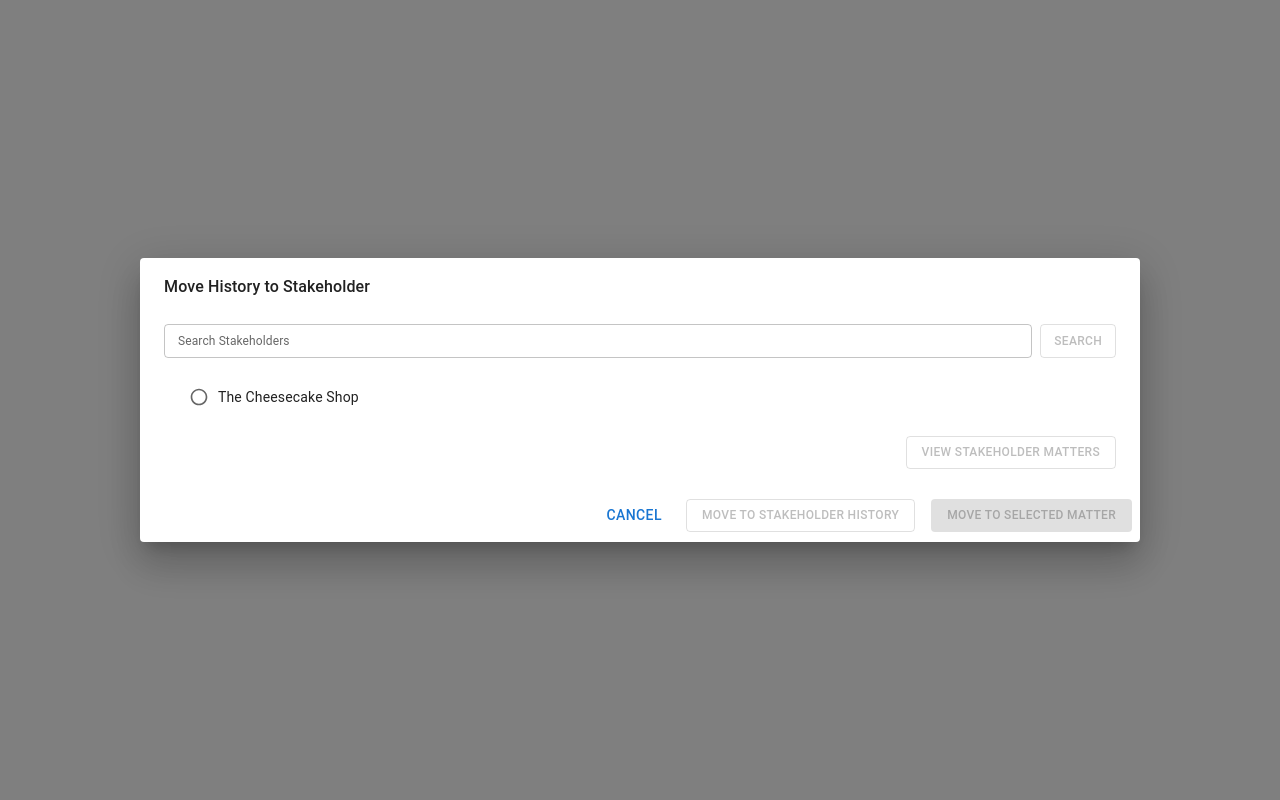
Test: StakeholderMoveDialog destinations › clears loaded Matters when a new Stakeholder search starts
The width and height of the screenshot is (1280, 800).
Click the radio button named "Select Stakeholder The Cheesecake Shop" at (199, 397), box [189,387,209,407]
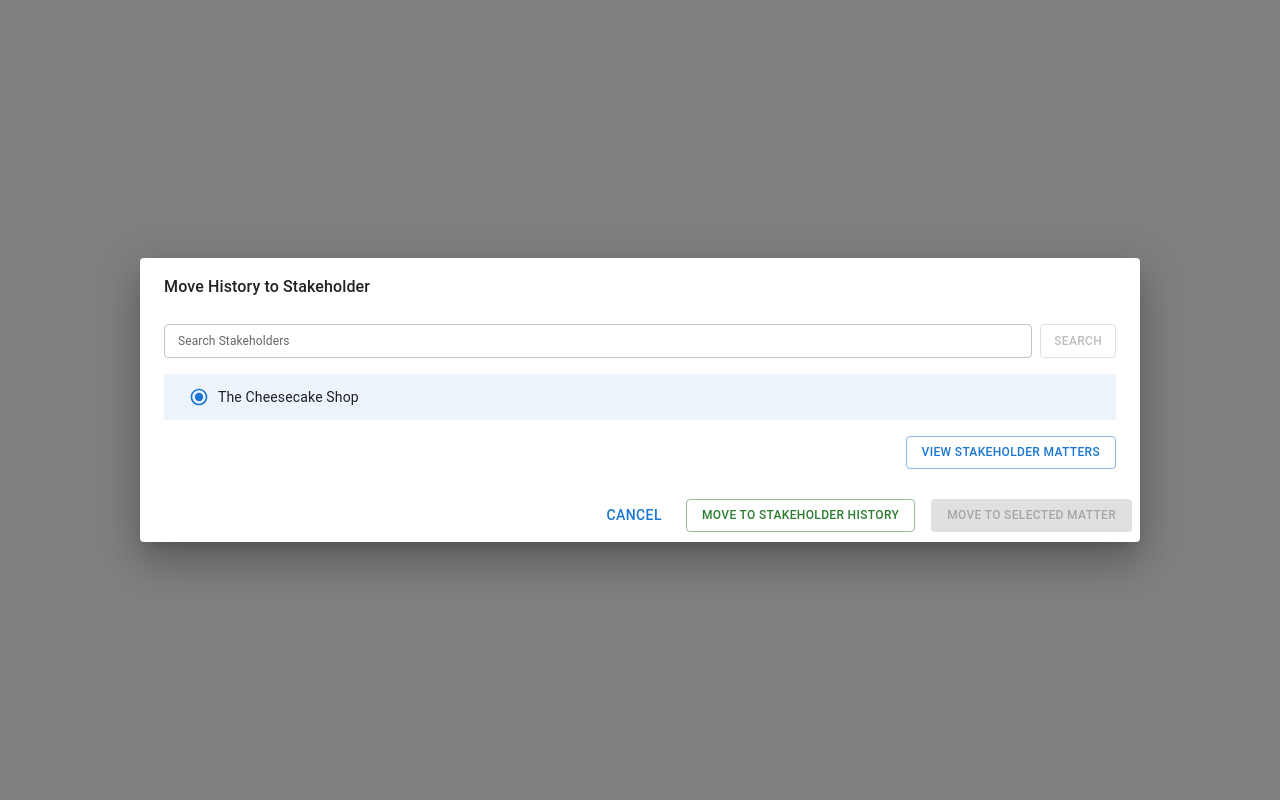
Click the button "View Stakeholder Matters" at (1011, 453), box [906,436,1116,469]
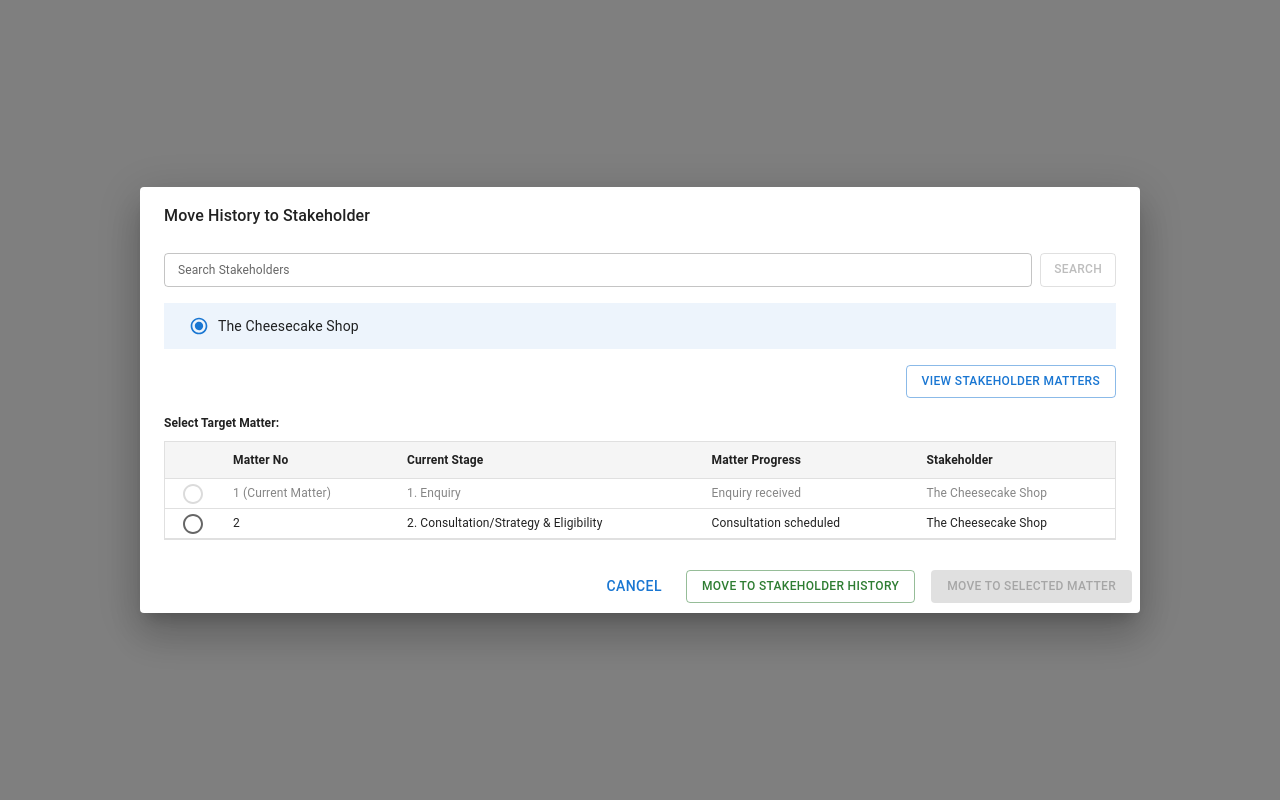
Expected: the heading "Select Target Matter:" is shown, [164,416,279,430]
Type "New" into the field labelled "Search Stakeholders" at (598, 270), box [164,253,1032,287]
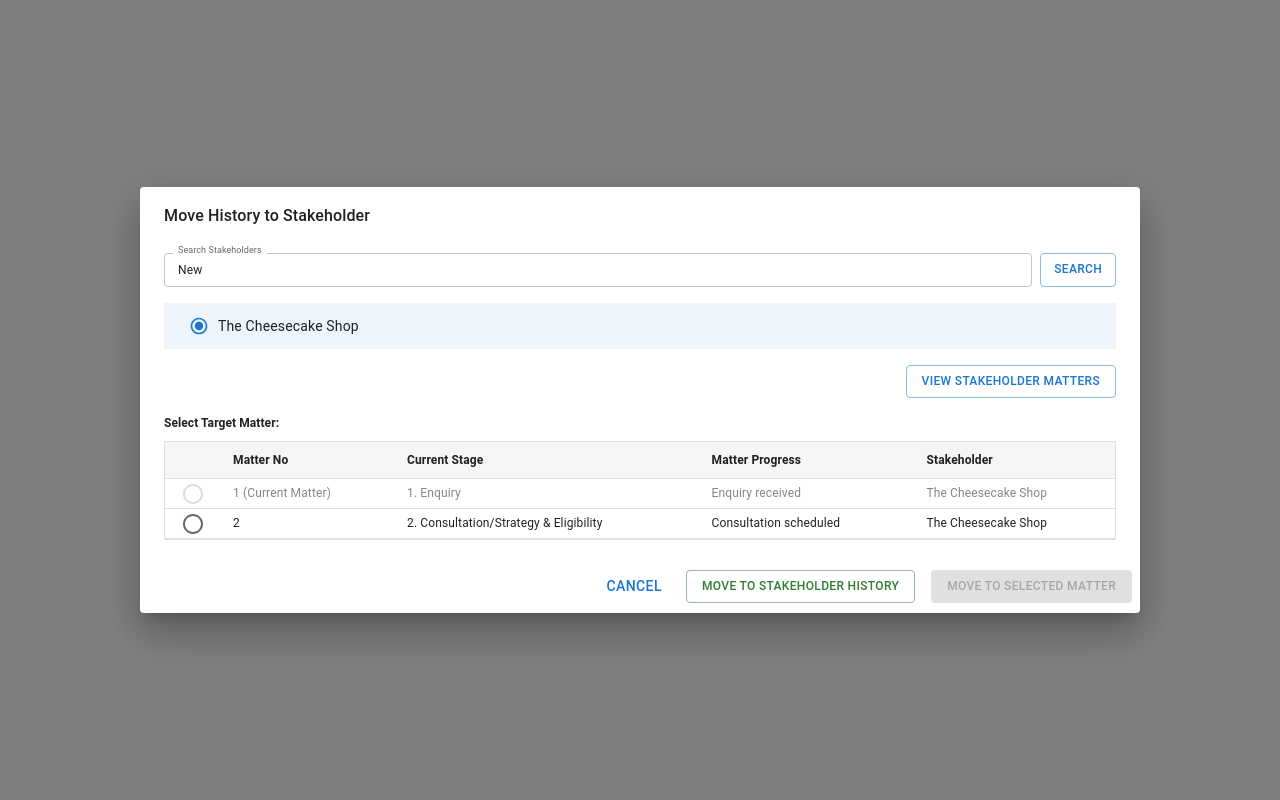
Click the button "Search" at (1078, 270), box [1040,253,1116,287]
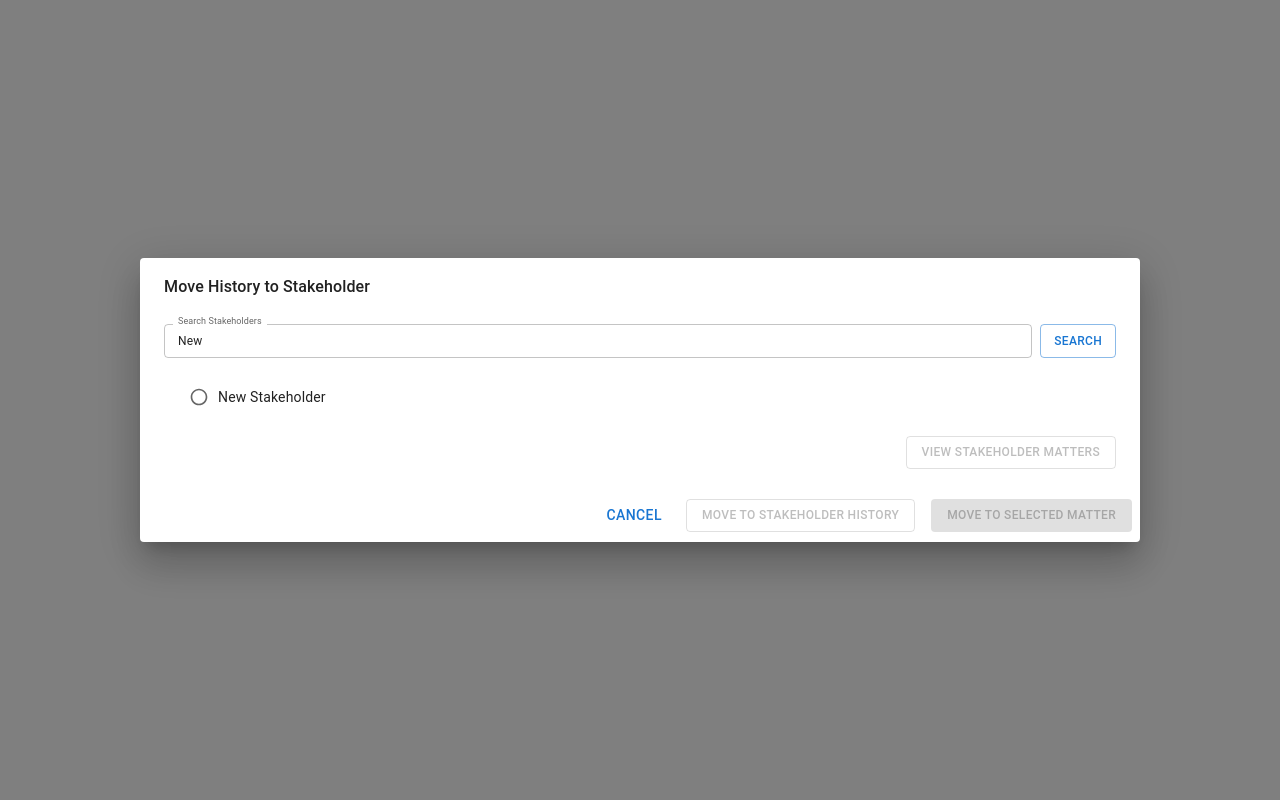
Expected: the heading "Select Target Matter:" is gone
Expected: the button "The Cheesecake Shop" is gone
Expected: the text "New Stakeholder" is shown, [218,389,326,405]
